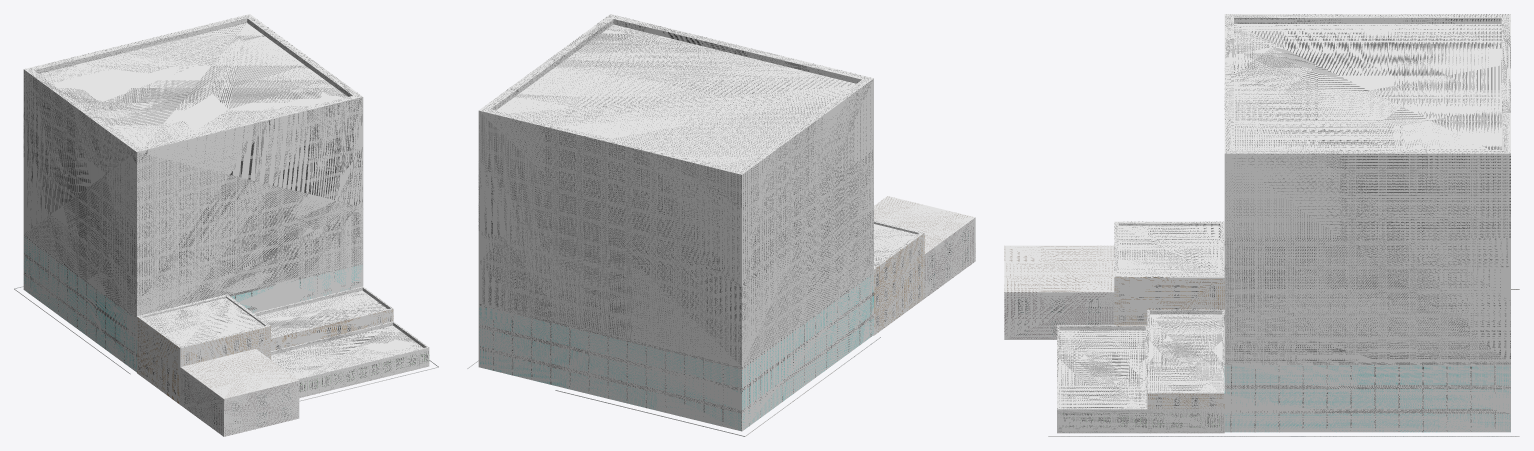
Rendered from Building_1.fbx.
3 renders of one model, left to right at view 1: azimuth 30°, elevation 25°; view 2: azimuth 150°, elevation 25°; view 3: azimuth 270°, elevation 25°, orthographic. The views are drawn at different scales.
Visible parts, largest first — view 1: Model, Group1, Group3, Group2; view 2: Model, Group2, Group3; view 3: Model, Group1, Group3, Group2.
Part boxes in pixels (<box>): Model: <box>14,14,438,433</box>; Group1: <box>253,286,429,397</box>; Group3: <box>137,294,270,404</box>; Group2: <box>180,349,299,436</box>; Model: <box>467,14,973,436</box>; Group2: <box>874,196,975,298</box>; Group3: <box>873,220,924,335</box>; Model: <box>1048,14,1519,436</box>; Group1: <box>1057,309,1224,433</box>; Group3: <box>1114,221,1224,325</box>; Group2: <box>1004,245,1114,339</box>.
Bounding box in the file's own units: 1896 × 1680 × 2808.
